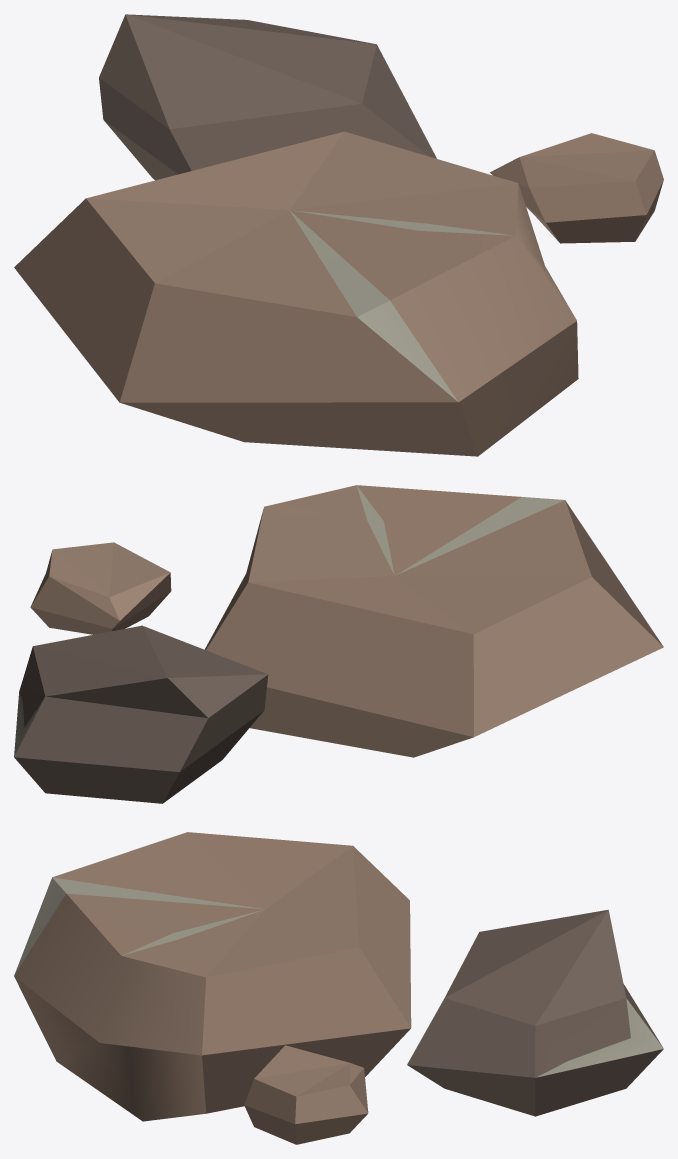
Rendered from mediumRocks_textured.fbx.
3 views of the same model, one above another, from view 1: azimuth 30°, elevation 25°; view 2: azimuth 150°, elevation 25°; view 3: azimuth 270°, elevation 25° (orthographic). The views are drawn at different scales.
Parts seen in each view (by area): view 1: pSphere4; view 2: pSphere4; view 3: pSphere4.
Boxes of the visible parts, x1,y1,x2,y2 form: pSphere4: (14,14,663,456); pSphere4: (14,485,663,803); pSphere4: (14,832,663,1144).
Size of the model in its own units: 428 by 121 by 477.
